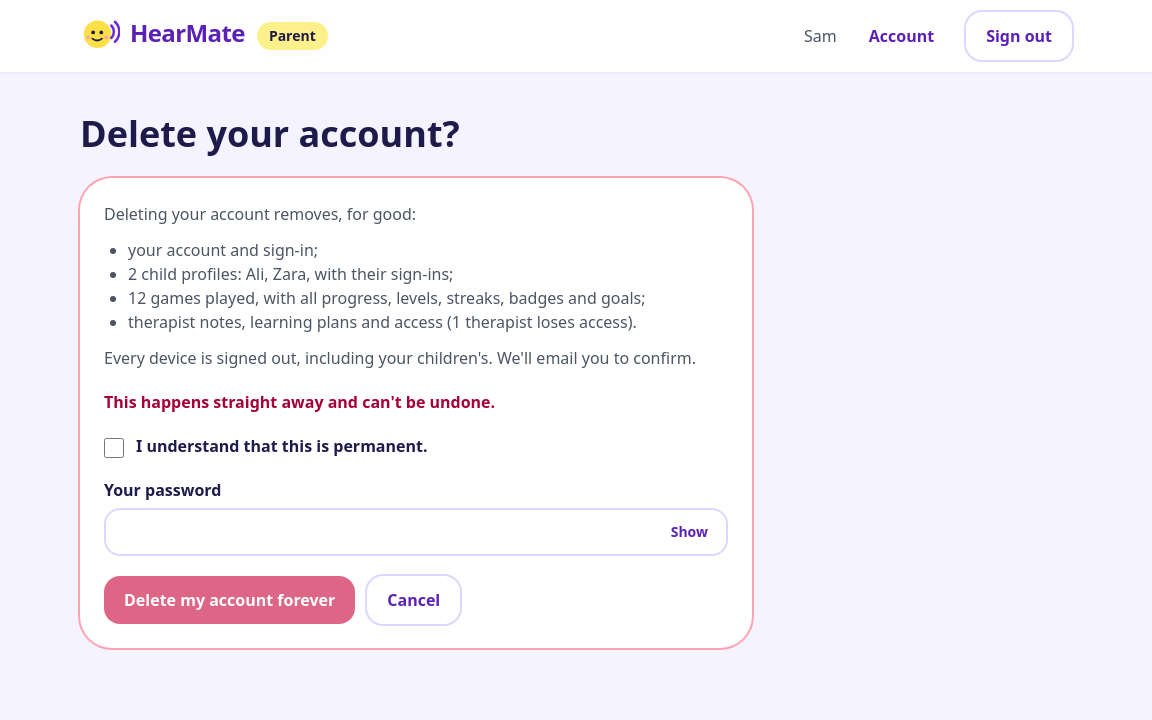
Test: Deleting a parent account › signs out and leaves nothing on the device once the account is deleted
Click the checkbox labelled "I understand that this is permanent.". click: coordinates (114, 448)
box: [104, 438, 124, 458]
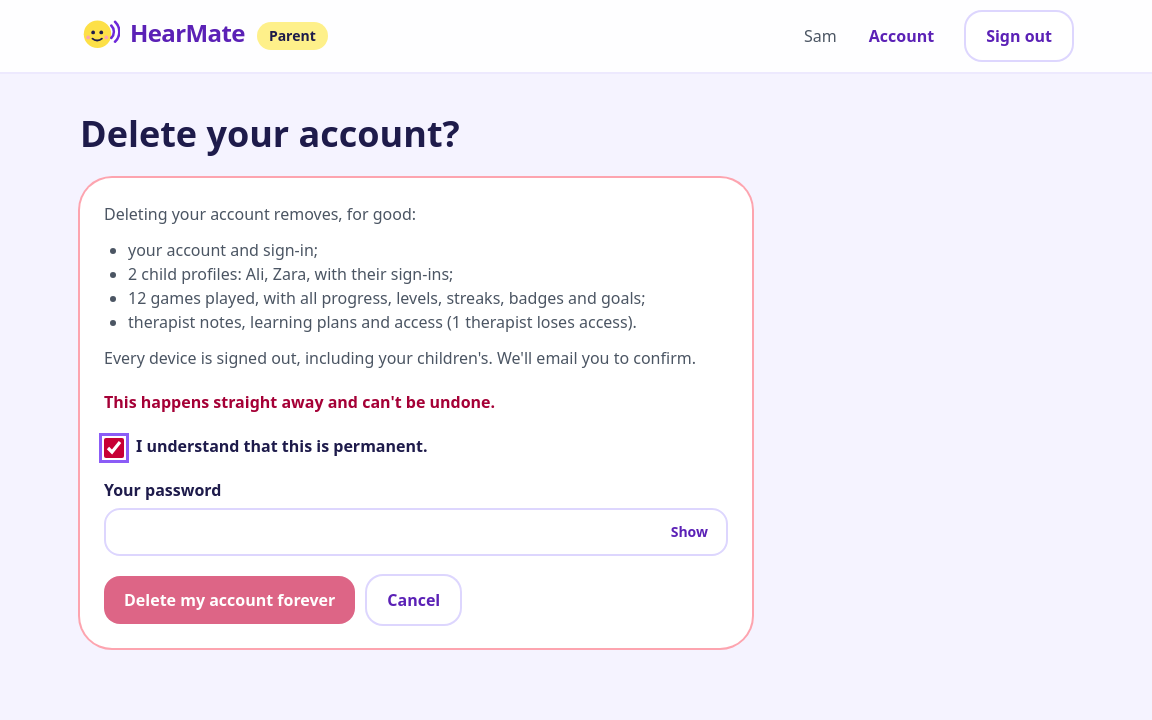
Type "a-long-password" into the password field labelled "Your password". click: coordinates (416, 532)
box: [104, 508, 728, 556]
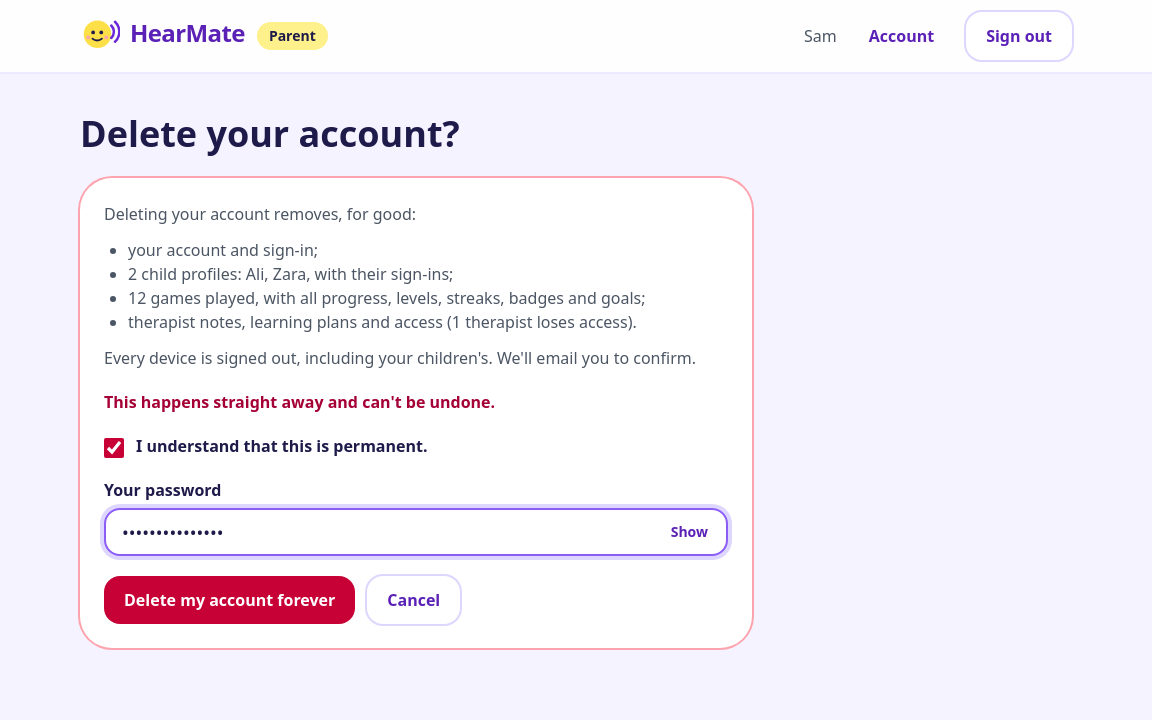
Click the button "Delete my account forever". click: coordinates (230, 600)
box: [104, 576, 355, 624]
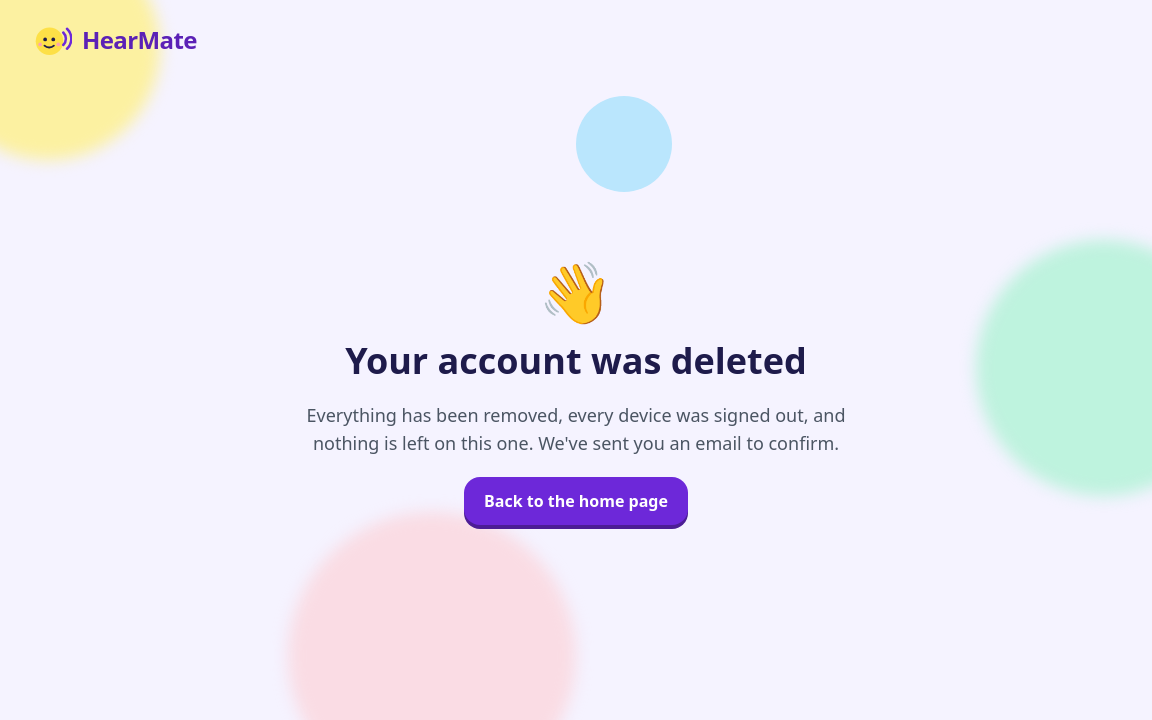
Expected: the heading "Your account was deleted" is shown, [345, 341, 807, 381]
